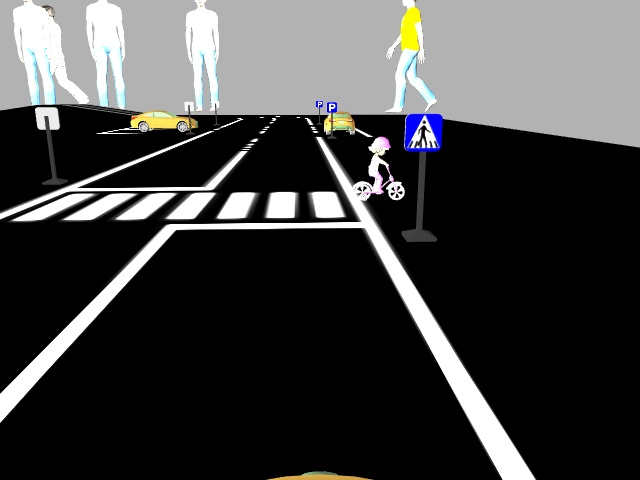Crosswalk: (405, 112, 441, 150)
Parking: (327, 100, 337, 112)
Pedestrian: (347, 135, 405, 200)
